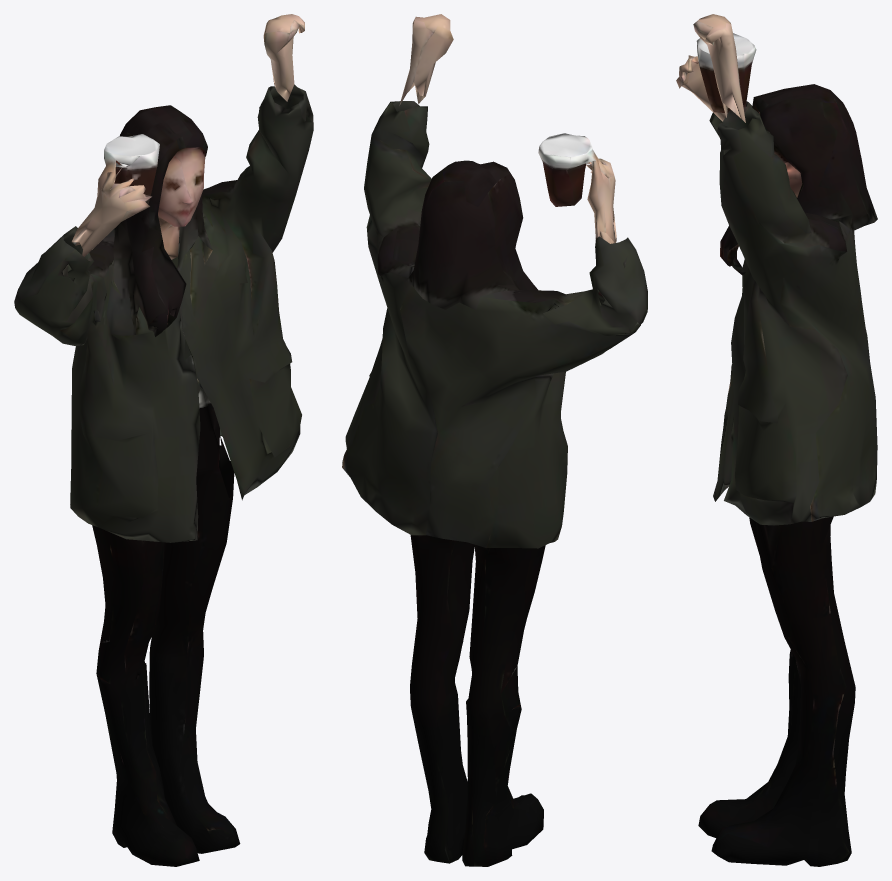
The model's file is fan-w-cup-s1.lo.glb.
3 renders of one model, left to right at view 1: azimuth 30°, elevation 25°; view 2: azimuth 150°, elevation 25°; view 3: azimuth 270°, elevation 25°, orthographic. The views are drawn at different scales.
Parts seen in each view (by area): view 1: geometry_0; view 2: geometry_0; view 3: geometry_0.
Boxes of the visible parts, box(x1,y1,x2,y2) form: geometry_0: box(14, 14, 313, 866); geometry_0: box(342, 14, 647, 866); geometry_0: box(676, 14, 877, 866).
Bounding box in the file's own units: 0.3761 × 0.9992 × 0.2096.
1 material, 1 textured.
